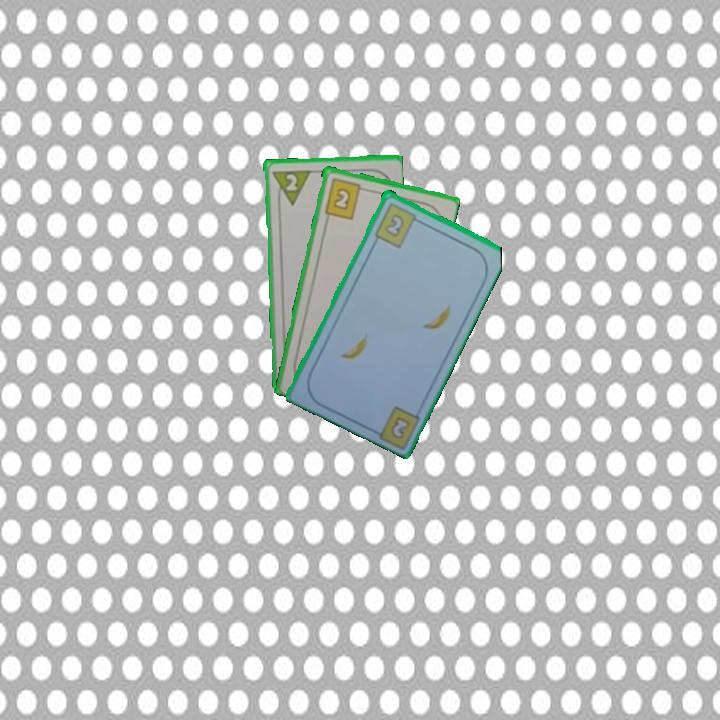2b: (371, 199, 424, 250), (321, 174, 369, 221), (387, 413, 413, 442)
2p: (282, 170, 300, 194)
